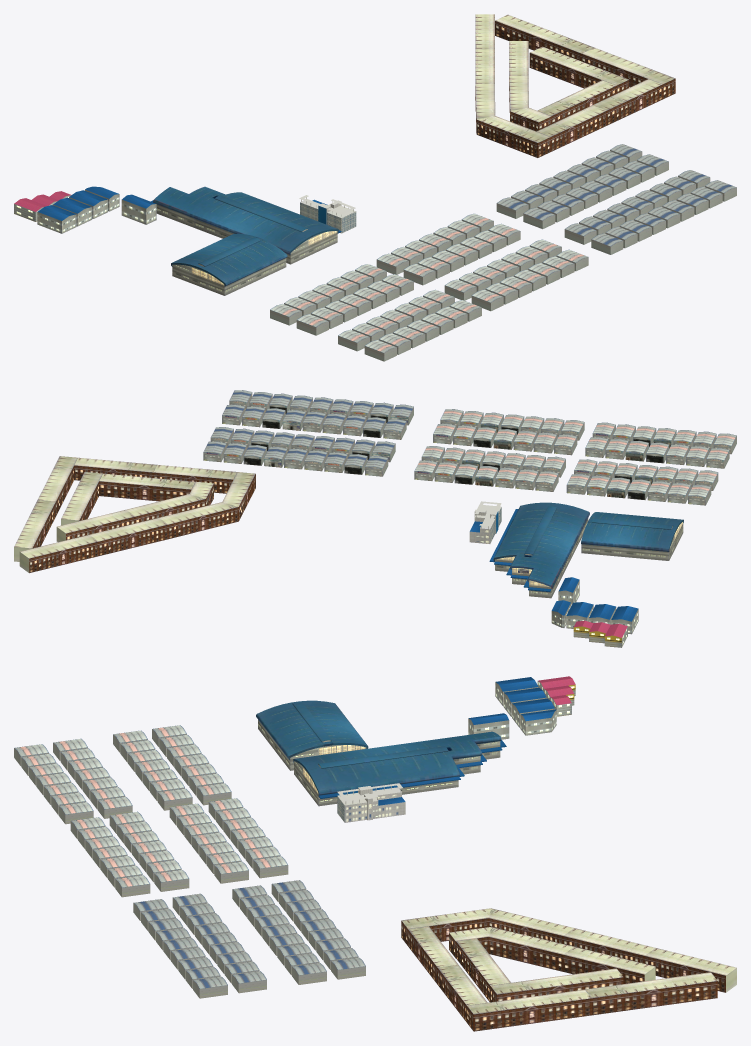
Rendered from industrial.gltf.
The picture shows the model from 3 angles, top to bottom: view 1: azimuth 30°, elevation 25°; view 2: azimuth 150°, elevation 25°; view 3: azimuth 270°, elevation 25°; orthographic projection. The views are drawn at different scales.
Parts seen in each view (by area): view 1: node1; view 2: node1; view 3: node1.
Boxes of the visible parts, bbox=[...] form: node1: bbox=[14, 14, 736, 361]; node1: bbox=[14, 390, 736, 647]; node1: bbox=[14, 676, 736, 1031].
Bounding box in the file's own units: 761 × 24.25 × 677.
Materials: 1 (1 with a texture image).
